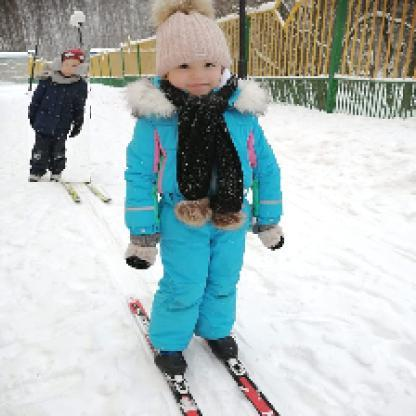child: (125, 2, 287, 376), (29, 46, 92, 184)
